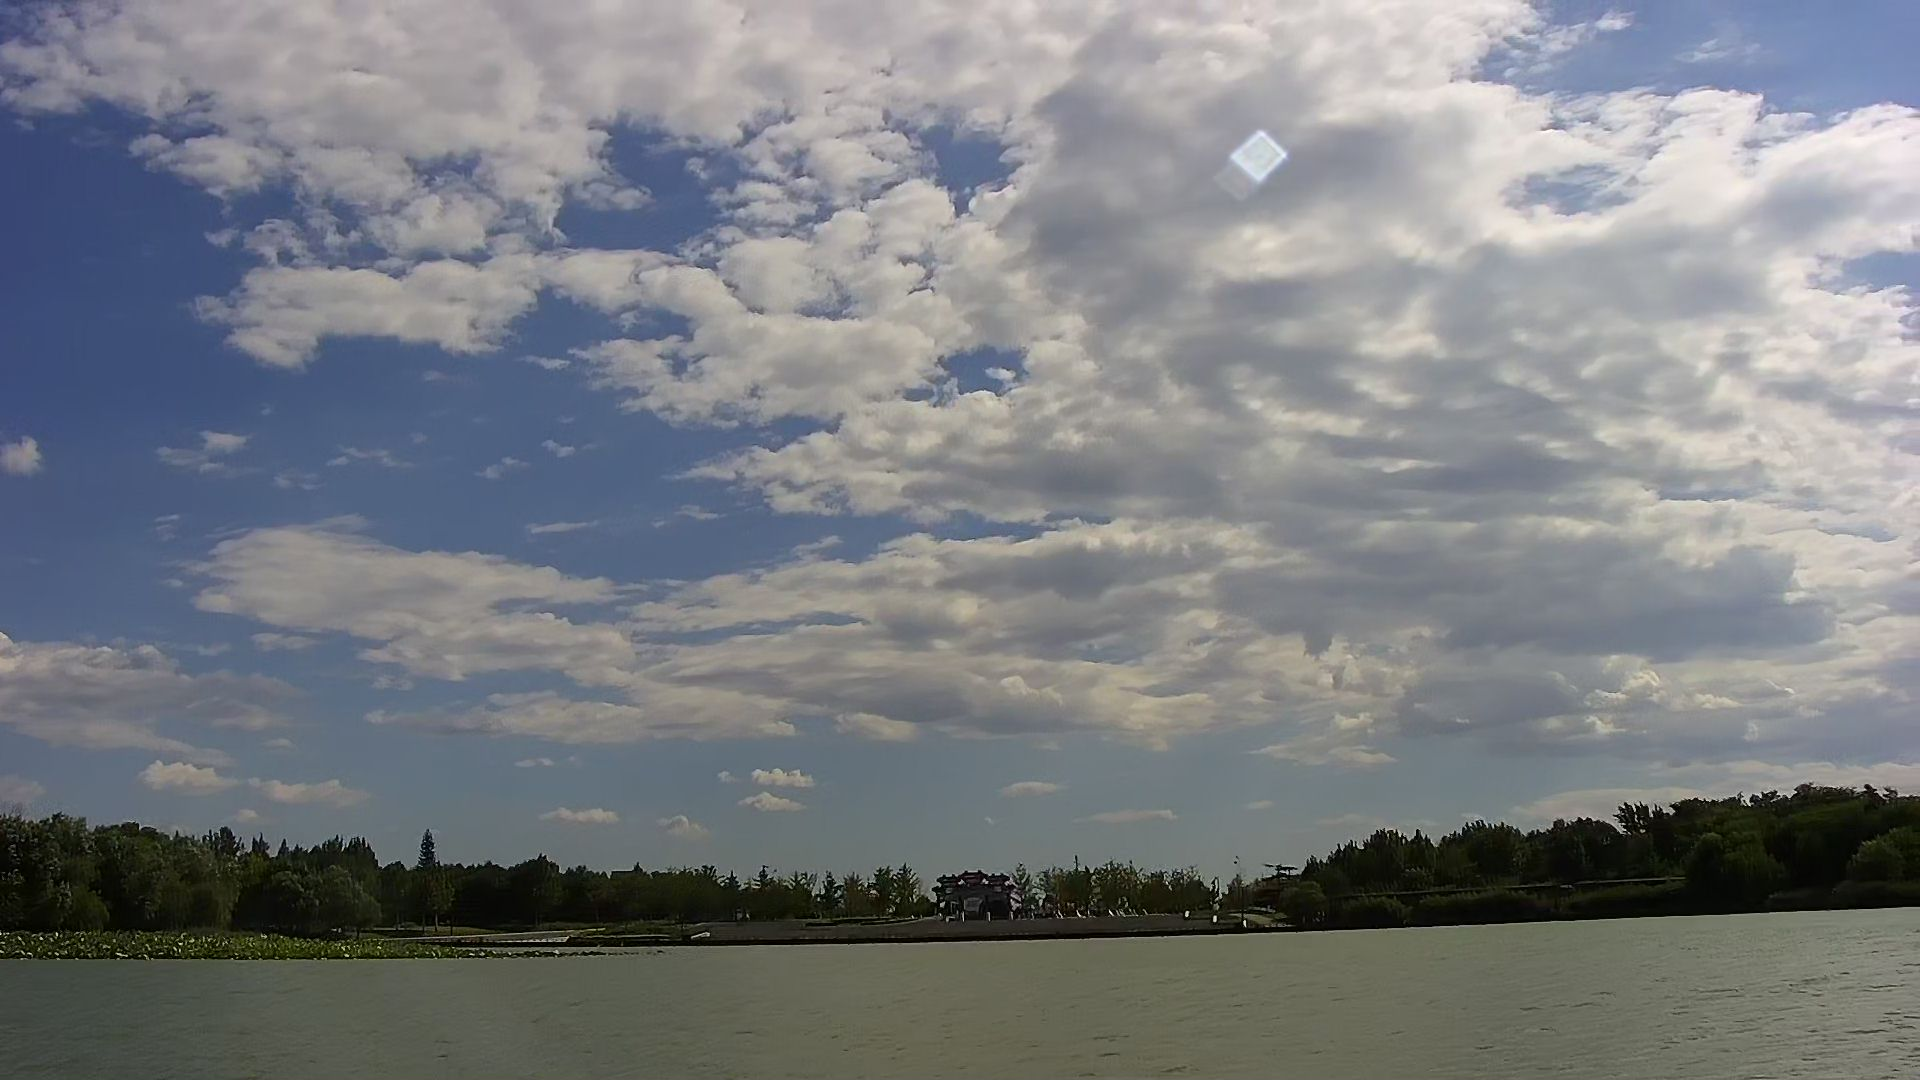harbor: (669, 899, 1309, 948)
